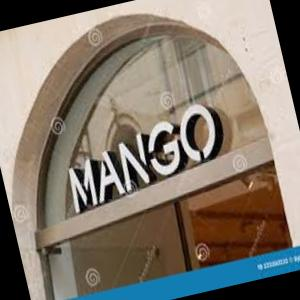mango: (49, 97, 233, 219)
